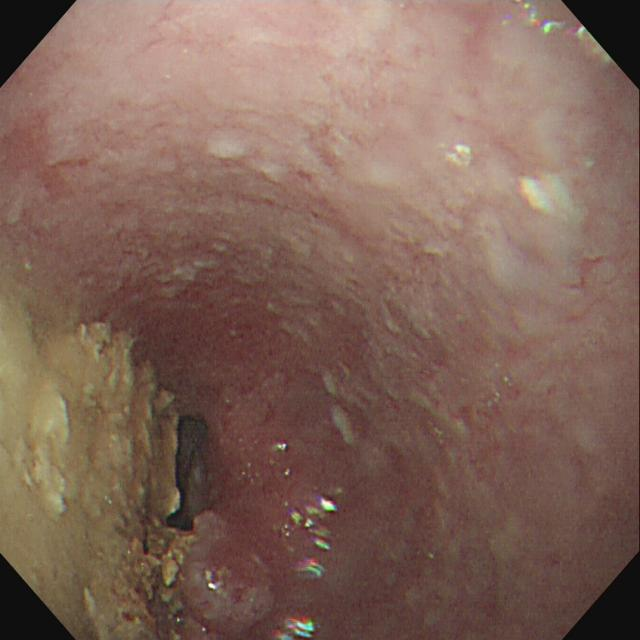B: (2, 286, 194, 640), (189, 513, 278, 628)
U: (292, 496, 338, 579), (275, 618, 317, 640)
